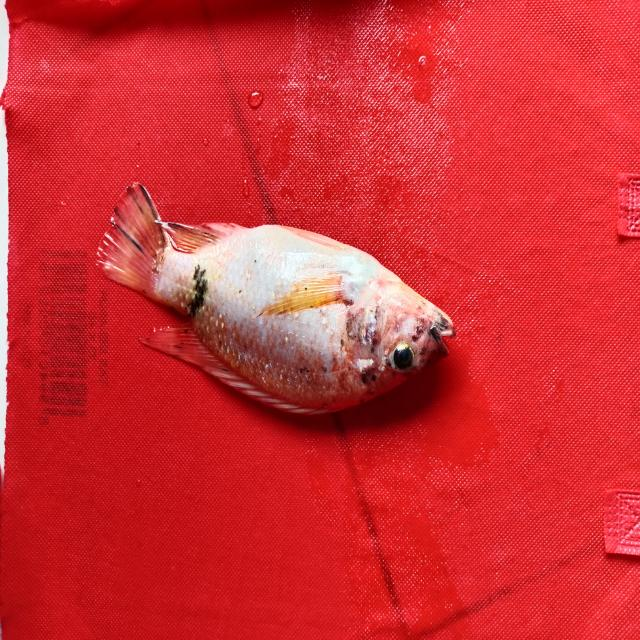ikan: (91, 165, 475, 442)
